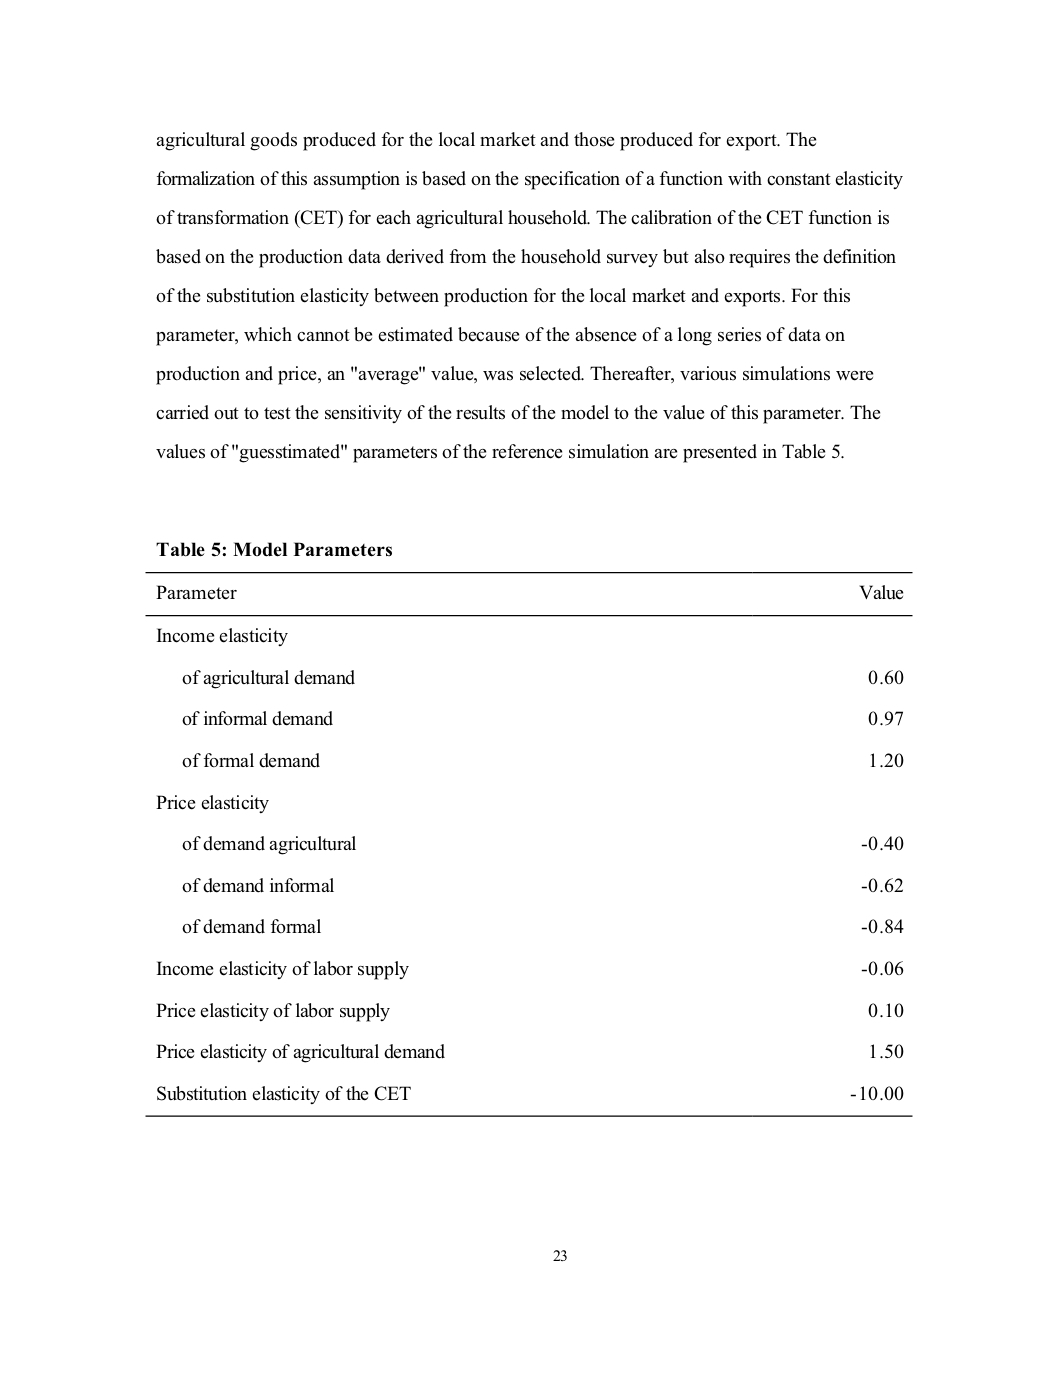Table: (145, 572, 912, 1116)
